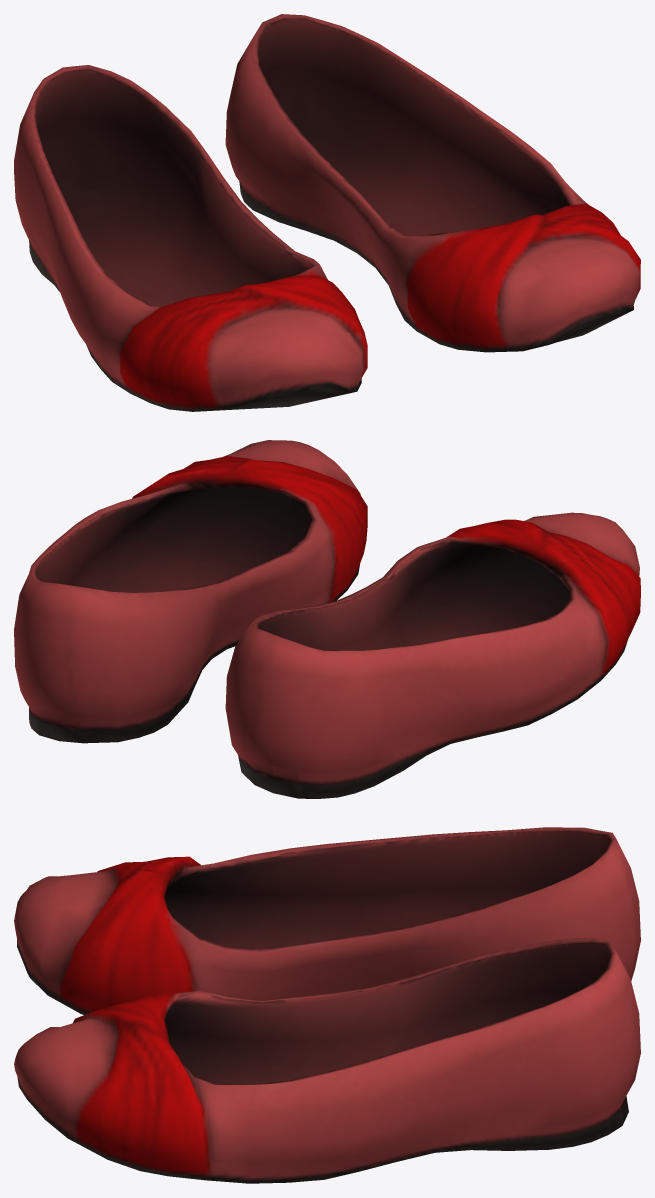
Rendered from shoestest.fbx.
3 views of the same model, one above another, from view 1: azimuth 30°, elevation 25°; view 2: azimuth 150°, elevation 25°; view 3: azimuth 270°, elevation 25° (orthographic). The views are drawn at different scales.
Visible parts, largest first — view 1: finaltry:Shoes; view 2: finaltry:Shoes; view 3: finaltry:Shoes.
Part boxes in pixels (x1,y1,x2,y2): finaltry:Shoes: (14,14,640,411); finaltry:Shoes: (14,440,640,798); finaltry:Shoes: (14,827,640,1183).
Size of the model in its own units: 27.11 by 8.5 by 28.15.
